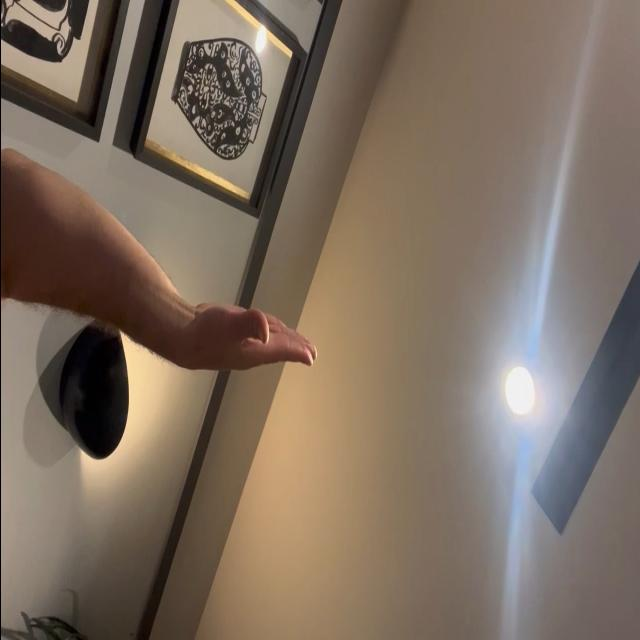Paper: (186, 297, 318, 375)
